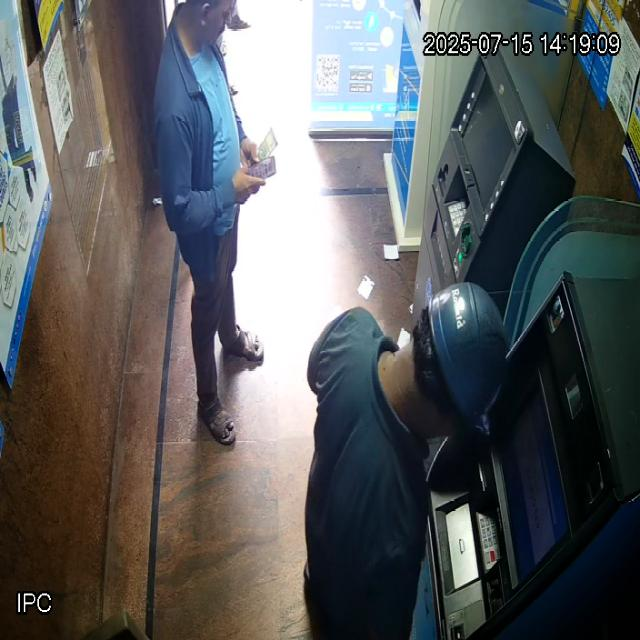helmet: (380, 282, 508, 443)
no_helmet: (176, 0, 234, 59)
